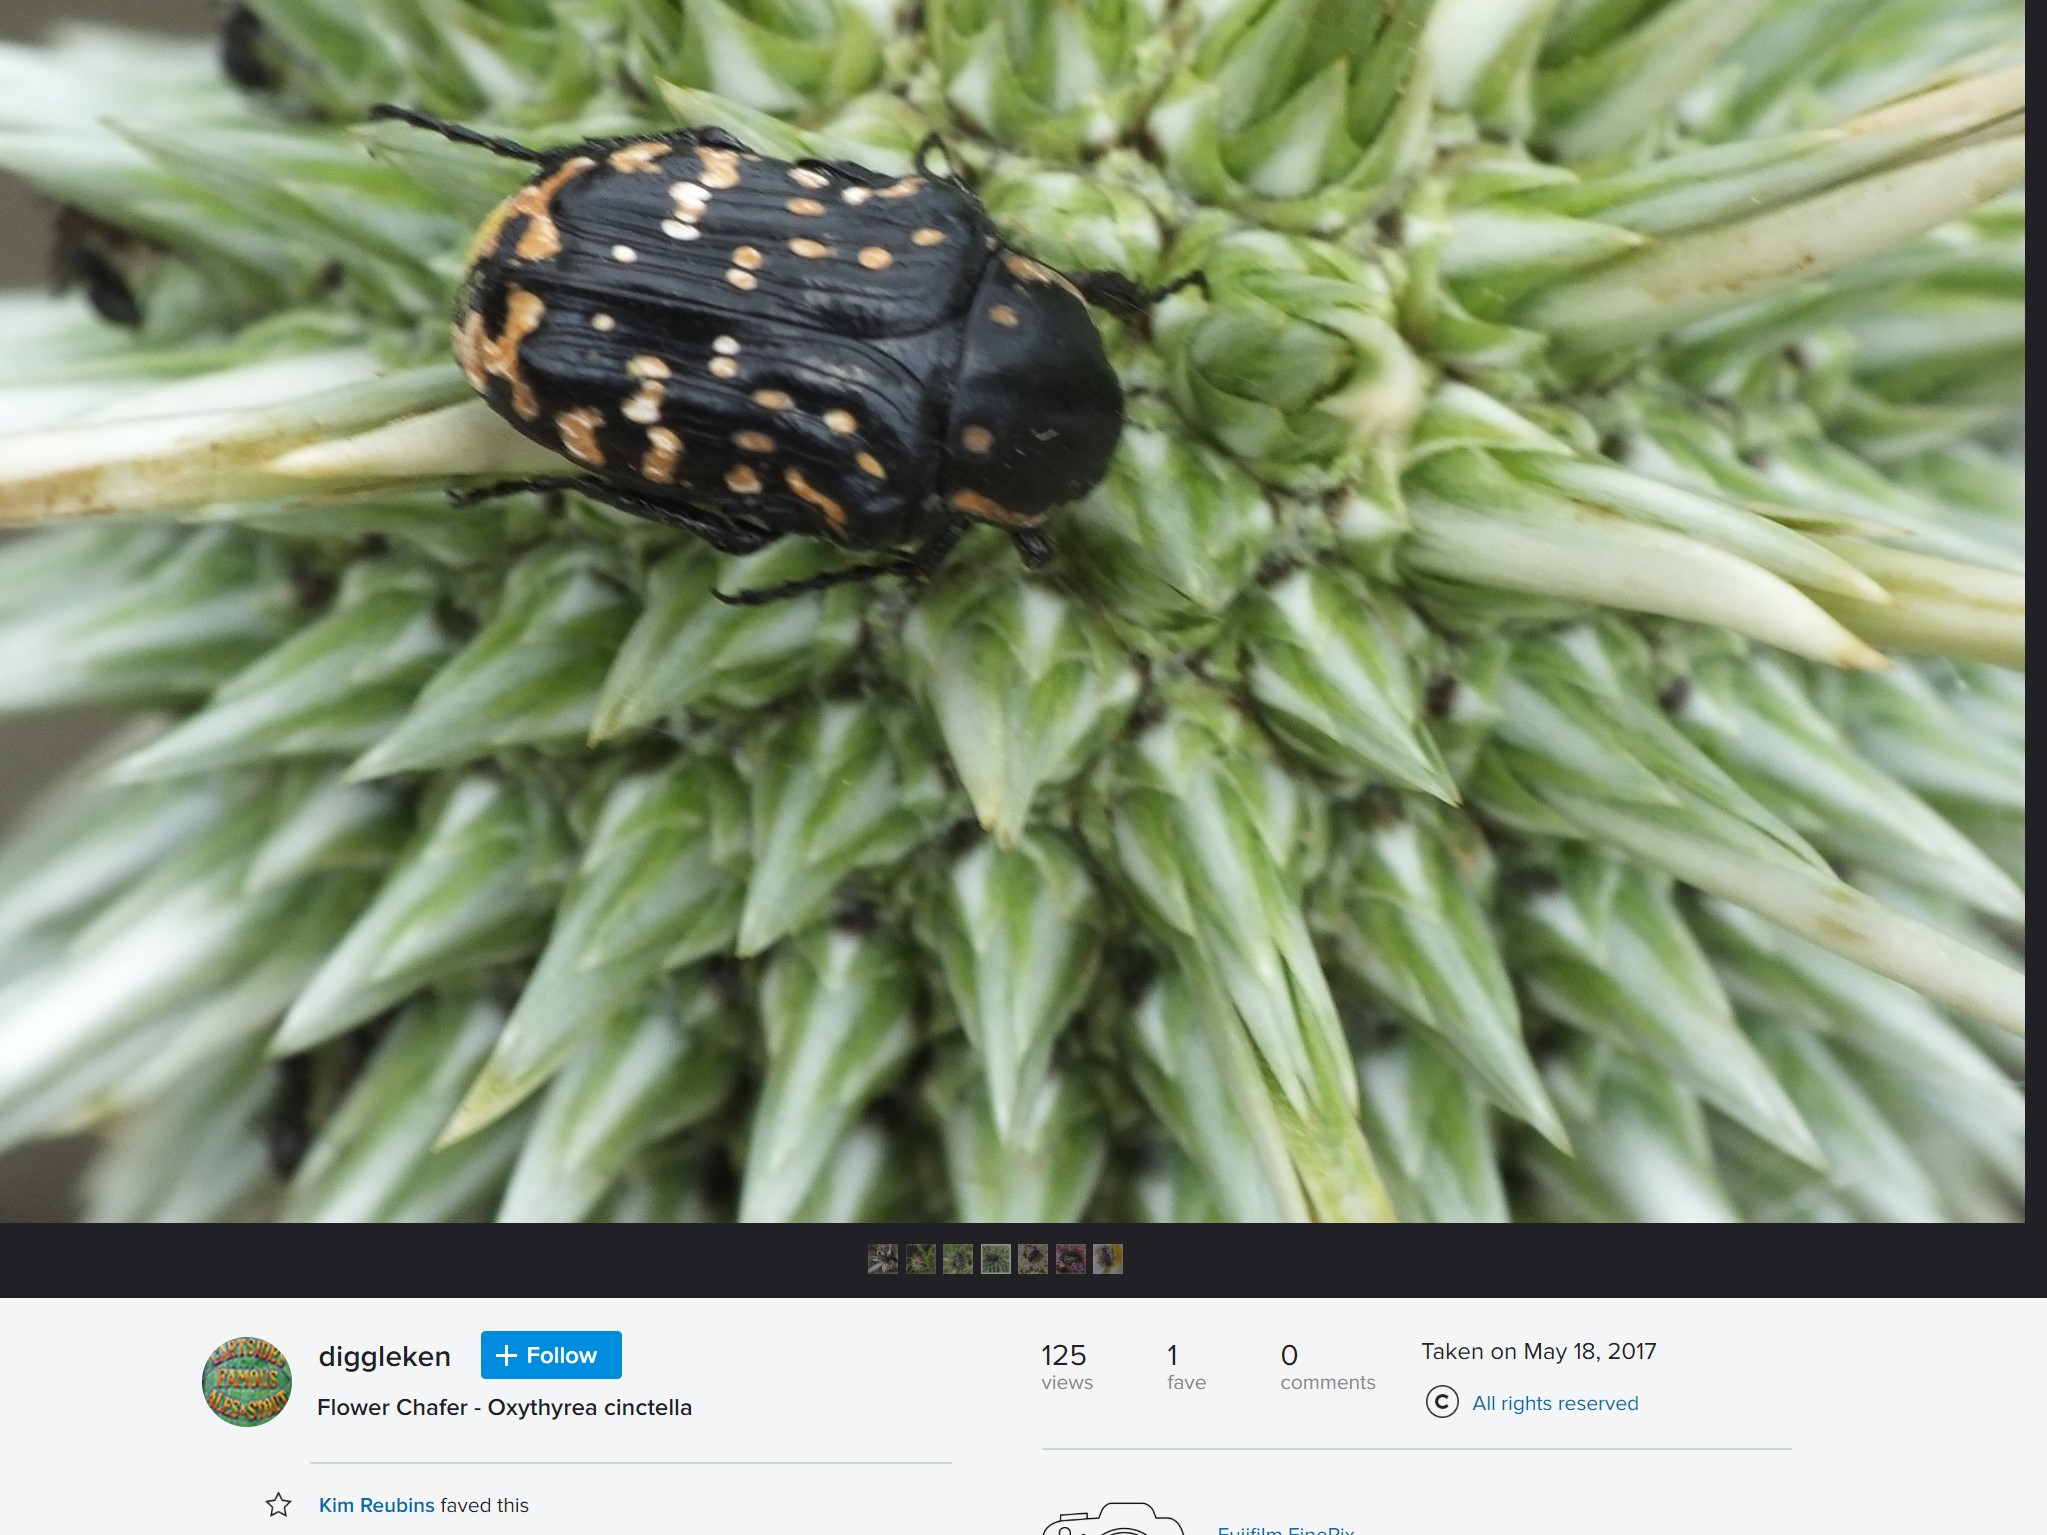Oxythyrea_cinctella: (343, 74, 1210, 595)
